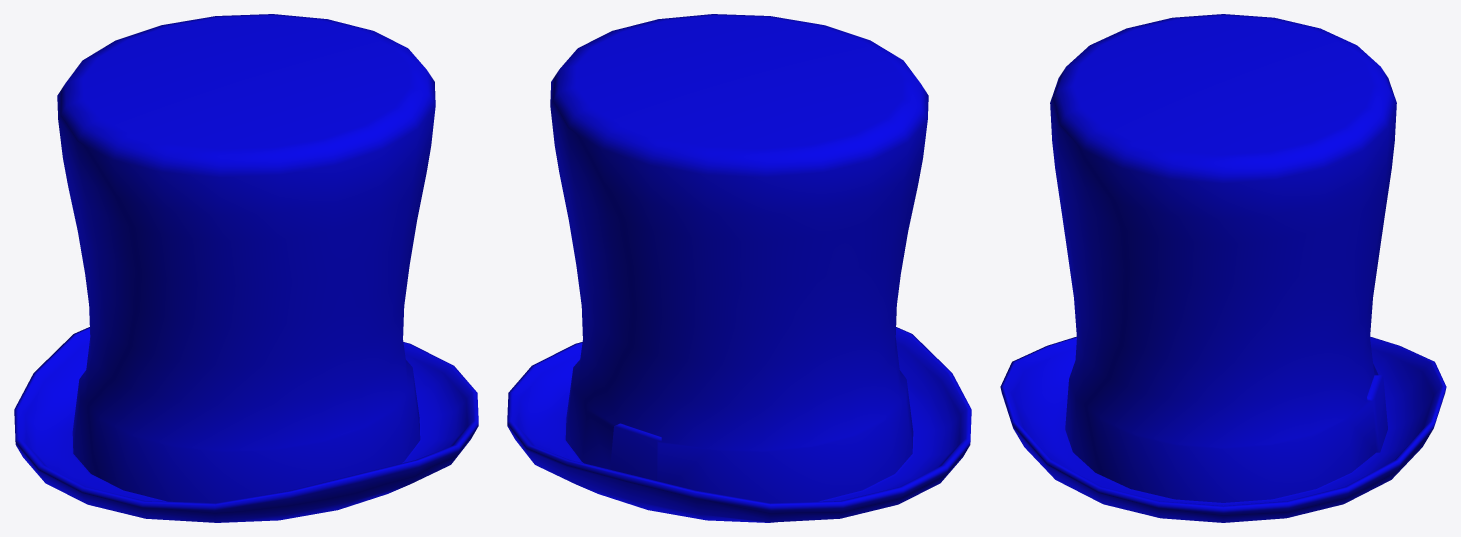
File: TopHat_Low.fbx
3 views of the same model, side by side, from view 1: azimuth 30°, elevation 25°; view 2: azimuth 150°, elevation 25°; view 3: azimuth 270°, elevation 25° (orthographic). The views are drawn at different scales.
Visible parts, largest first — view 1: TopHat_Low; view 2: TopHat_Low; view 3: TopHat_Low.
Boxes of the visible parts, bbox=[...] form: TopHat_Low: bbox=[14, 14, 478, 522]; TopHat_Low: bbox=[507, 14, 971, 522]; TopHat_Low: bbox=[1000, 14, 1446, 522].
Bounding box in the file's own units: 1.96 × 1.63 × 1.87.
